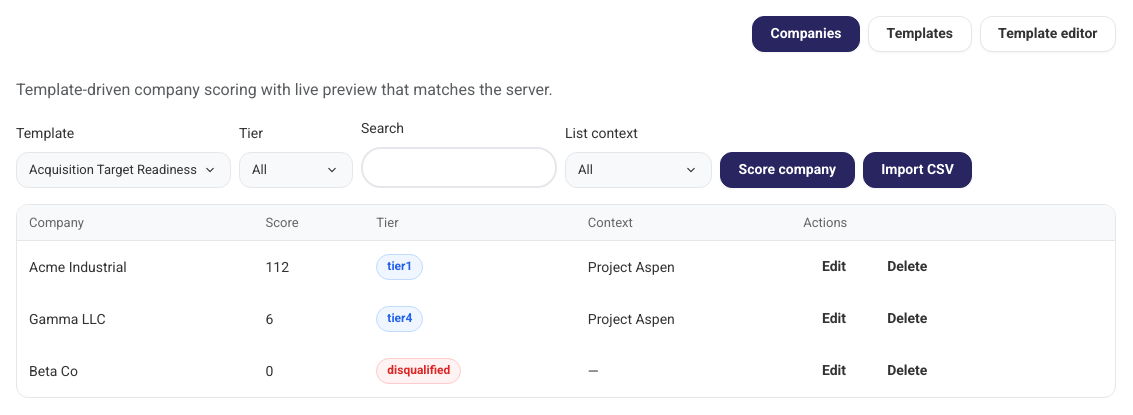
Test case: BdScoringPage › filters companies by tier dropdown
Check: the row with test id "bd-company-c1" is shown, box [17,241,1115,293]
Select "Disqualified" in the dropdown with test id "bd-tier" at point(296, 170), box [239,152,353,188]
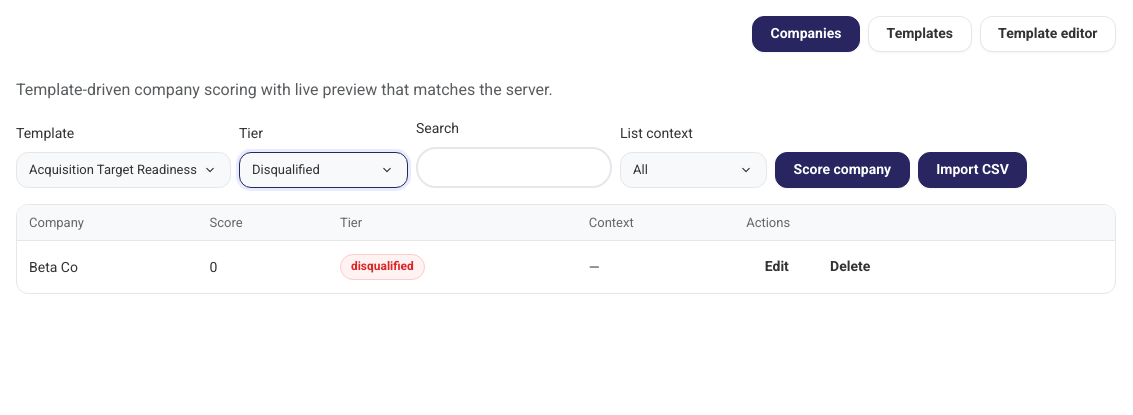
Check: the row with test id "bd-company-c2" is shown, box [17,241,1115,293]
Check: the row with test id "bd-company-c1" is gone
